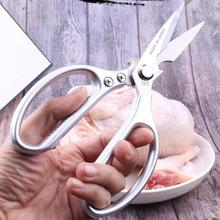scissor: (9, 2, 206, 216)
